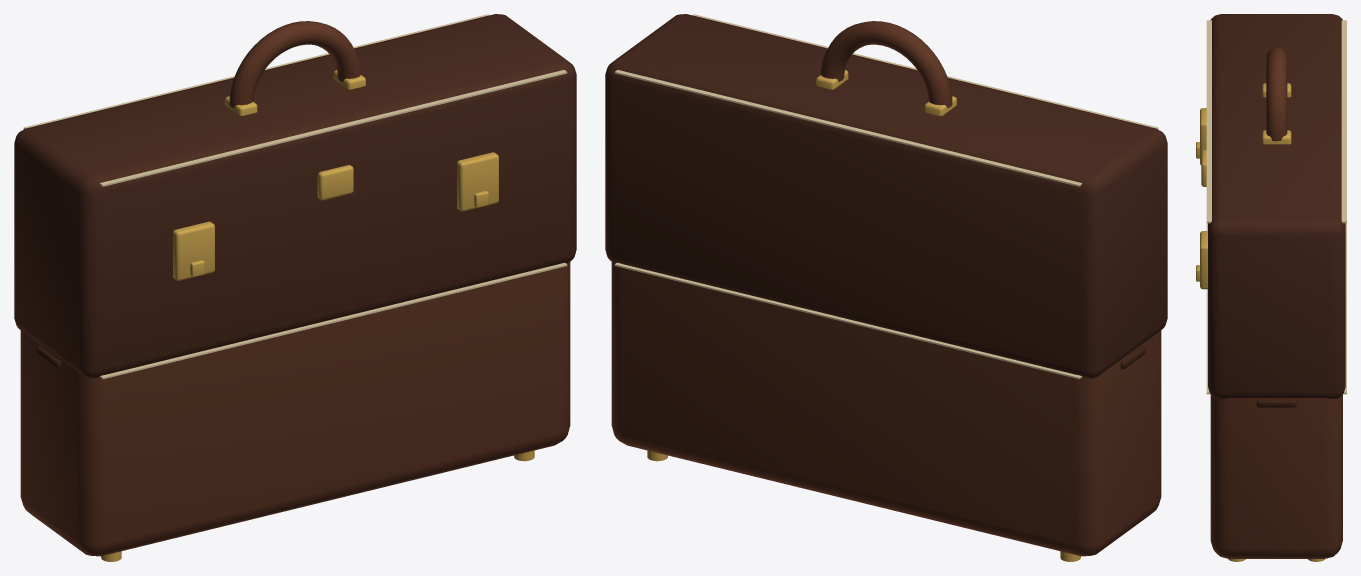
File: herodesk-office-briefcase.glb
3 views of the same model, side by side, from view 1: azimuth 30°, elevation 25°; view 2: azimuth 150°, elevation 25°; view 3: azimuth 270°, elevation 25° (orthographic). The views are drawn at different scales.
Parts seen in each view (by area): view 1: herodesk-office-briefcase · mesh; view 2: herodesk-office-briefcase · mesh; view 3: herodesk-office-briefcase · mesh.
Boxes of the visible parts, <box> form: herodesk-office-briefcase · mesh: <box>14,14,576,561</box>; herodesk-office-briefcase · mesh: <box>605,14,1167,561</box>; herodesk-office-briefcase · mesh: <box>1196,14,1346,561</box>.
Size of the model in its own units: 0.386 by 0.346 by 0.114.
